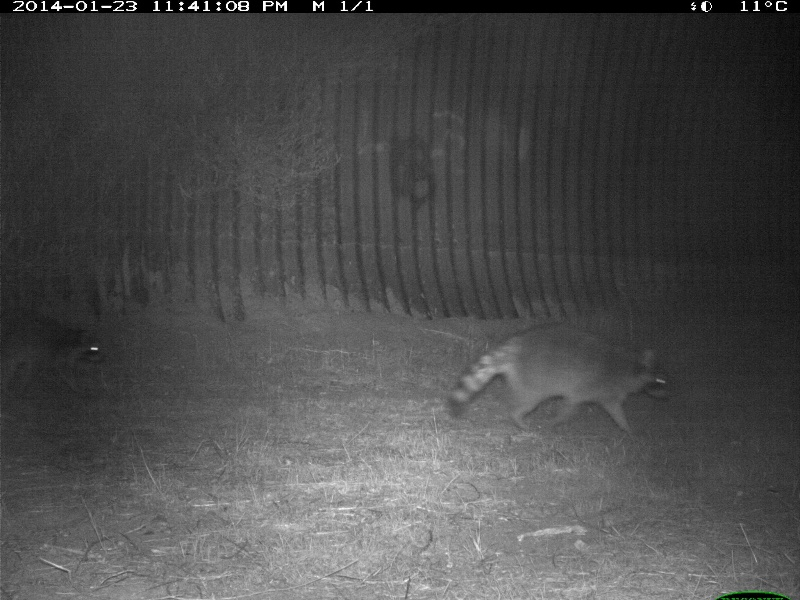raccoon: (443, 322, 673, 438), (1, 318, 105, 385)
